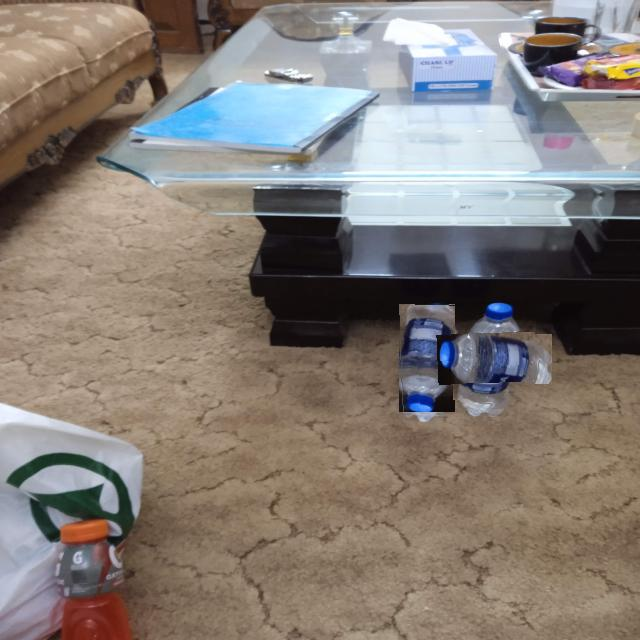Plastic: (451, 316, 536, 401), (398, 303, 455, 412)
